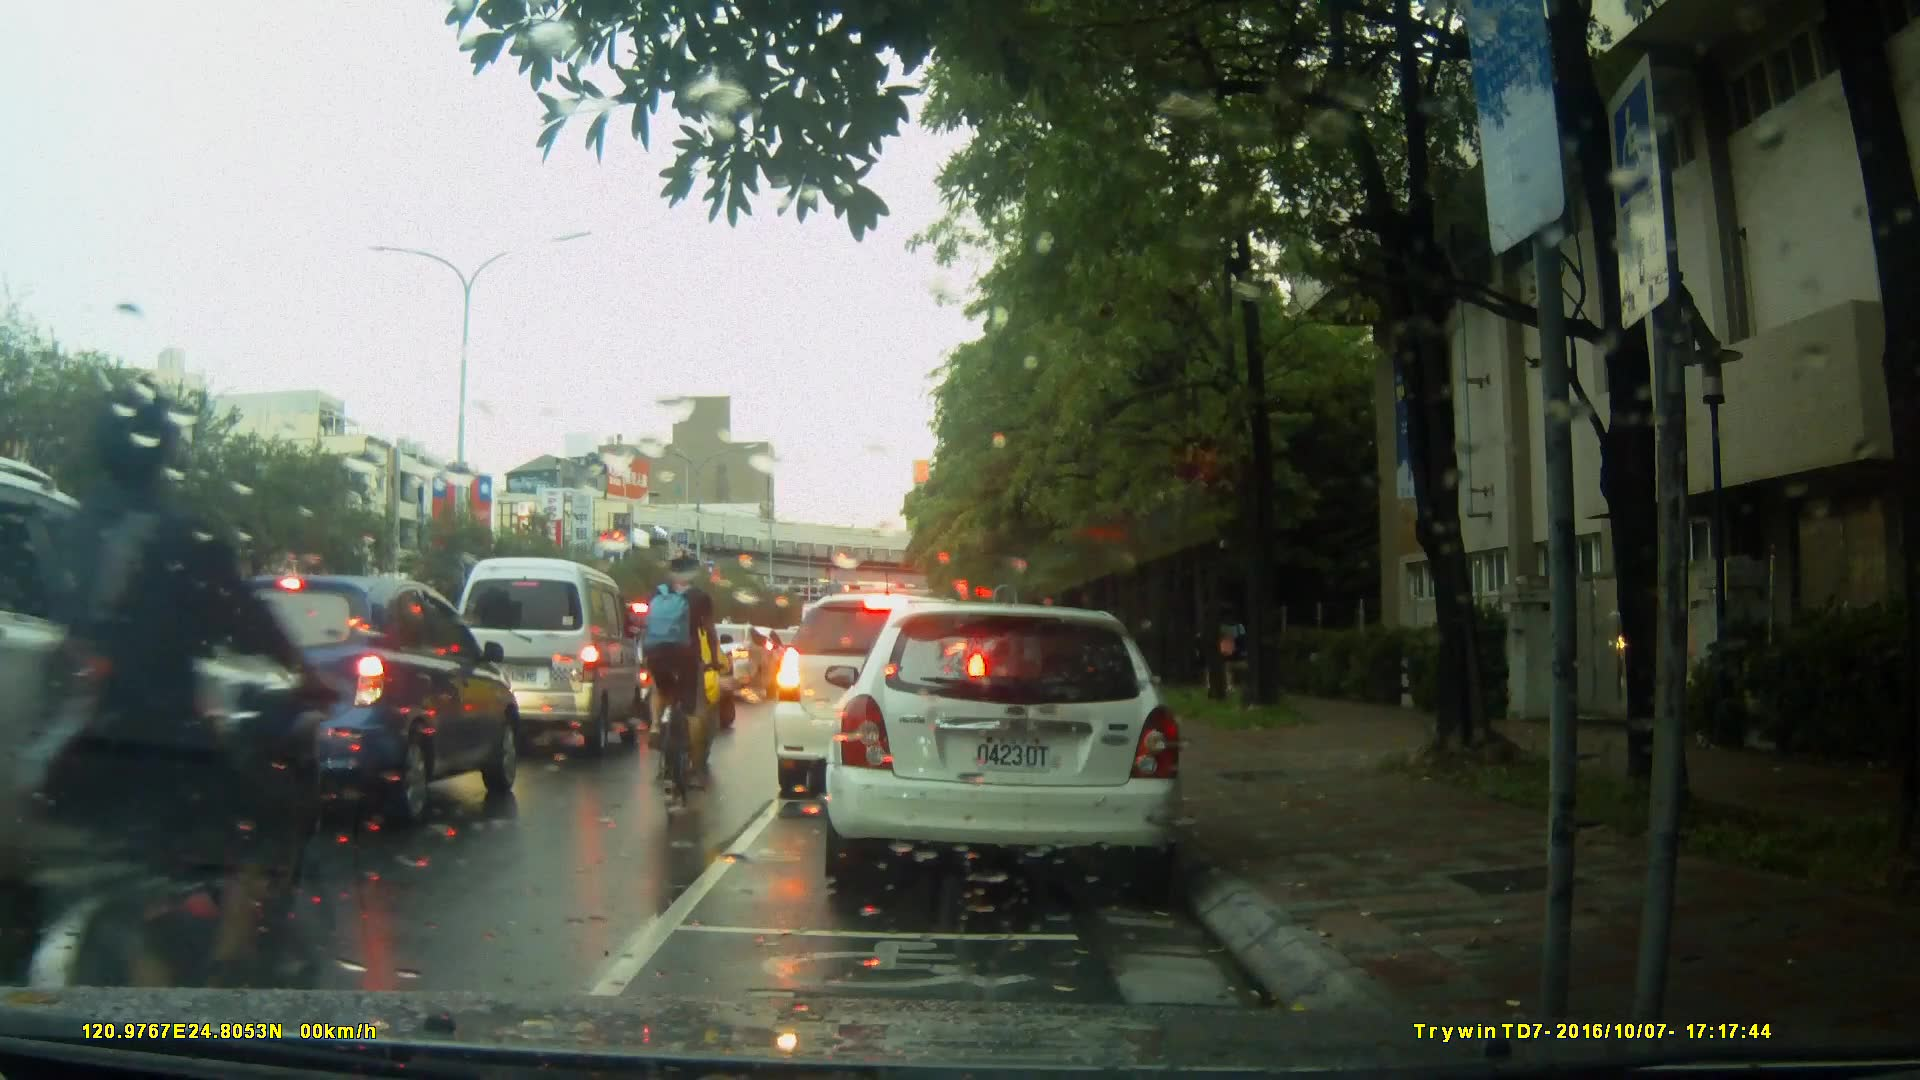rider: (30, 384, 338, 1051), (654, 551, 720, 822), (646, 594, 722, 773)
vehicle: (1, 444, 327, 987), (815, 593, 1204, 909), (178, 573, 529, 831), (770, 591, 993, 801), (445, 557, 649, 764), (599, 599, 741, 718)
